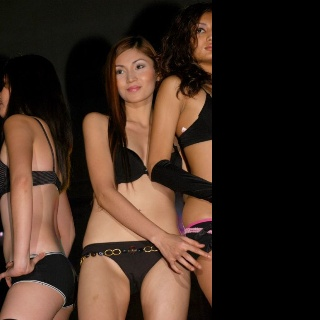without_mask: (115, 49, 156, 103)
